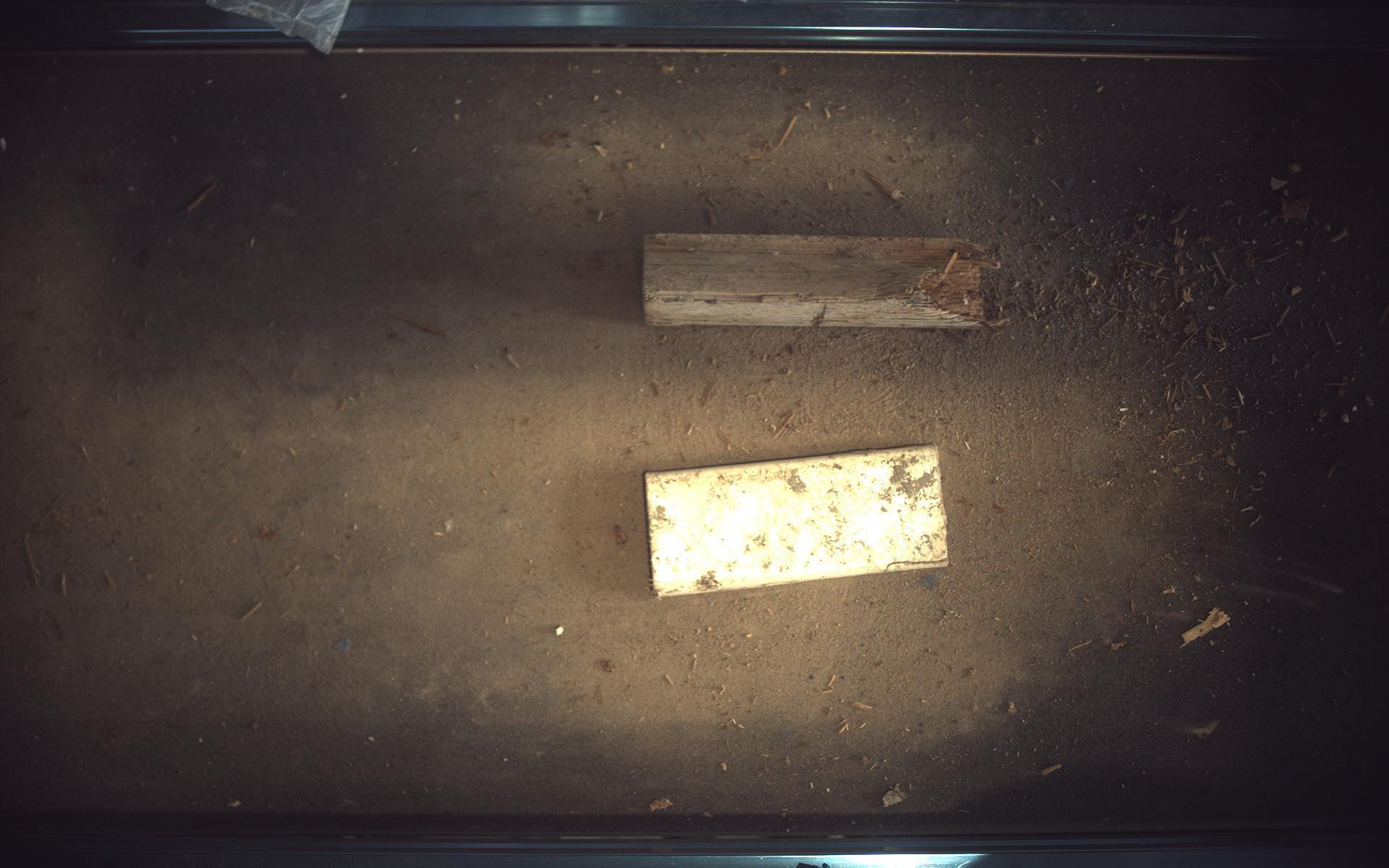wood: (645, 446, 951, 597), (645, 233, 1001, 328)
